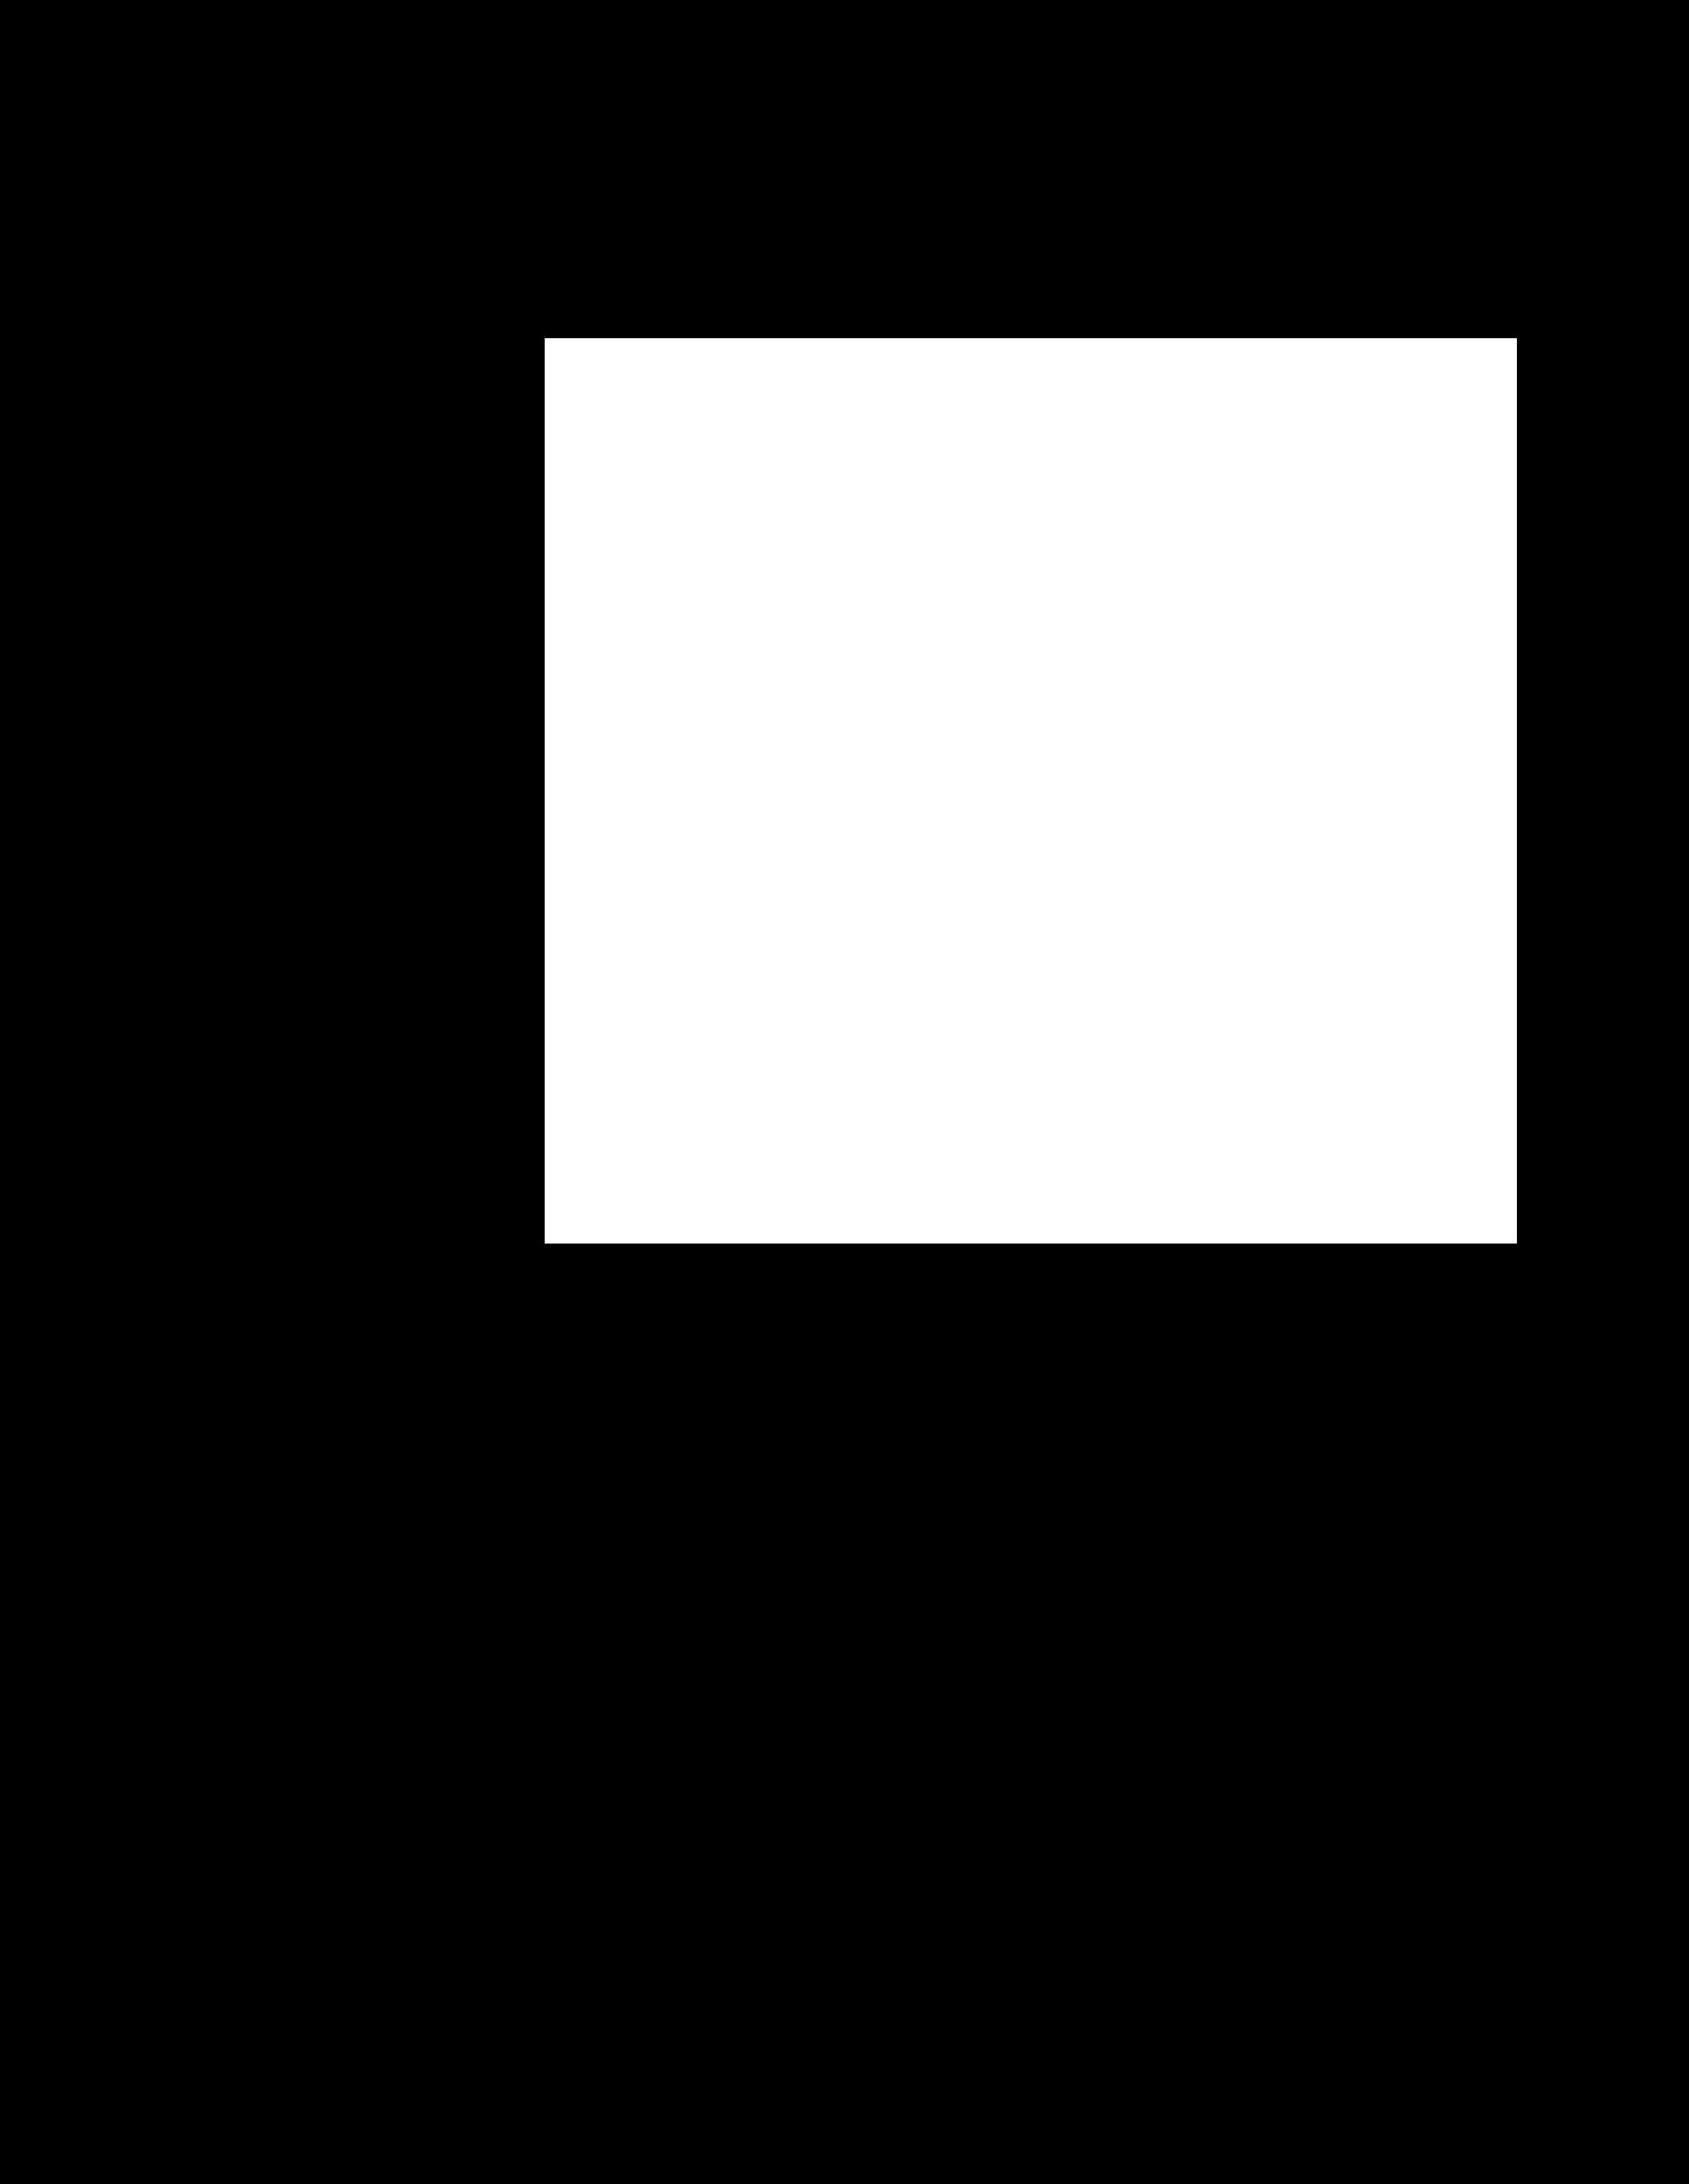table: (544, 339, 1517, 1243)
